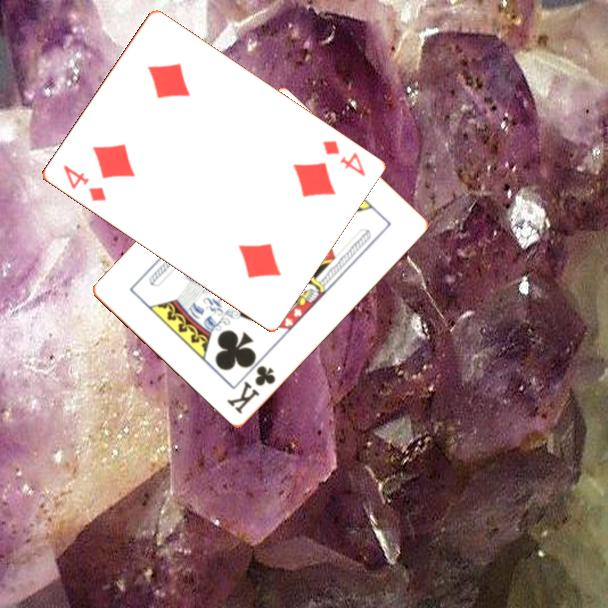c13: (223, 362, 279, 417)
d04: (59, 161, 109, 205), (318, 137, 368, 180)
